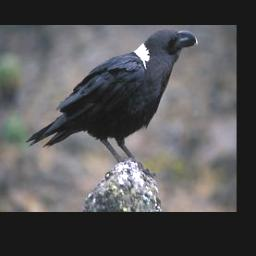Crow: (25, 29, 199, 180)
